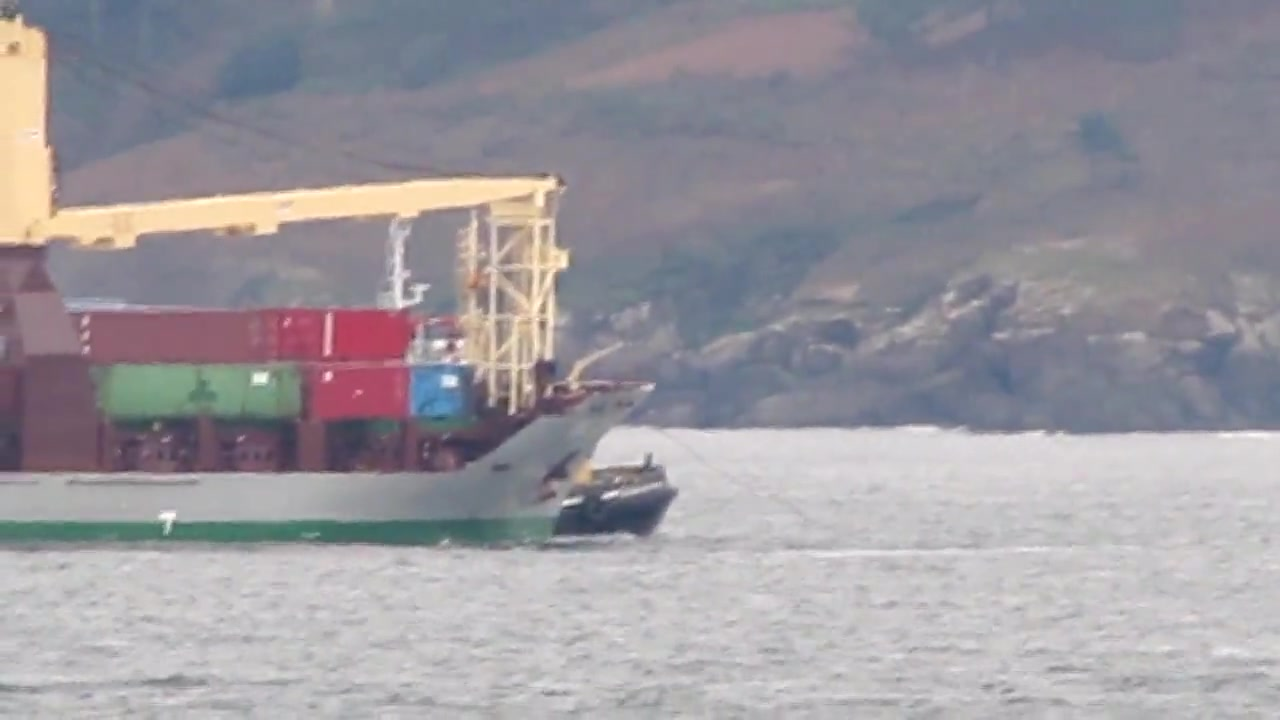boat: (1, 16, 658, 553)
